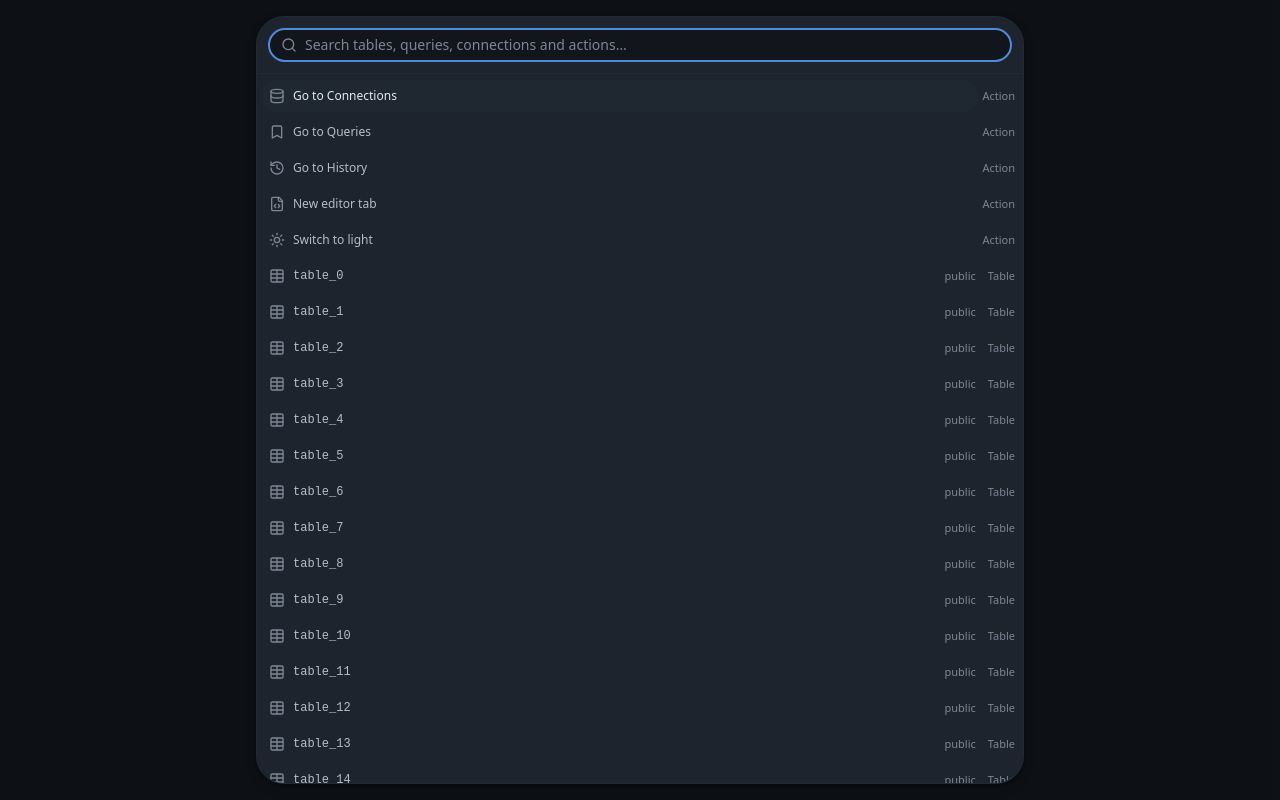
it: CommandPalette › stays responsive on a large schema
Type "table_299" into the field labelled "Search tables, queries, connections and actions…".
click(656, 45); type("table_299")  # box [305,35,1007,55]
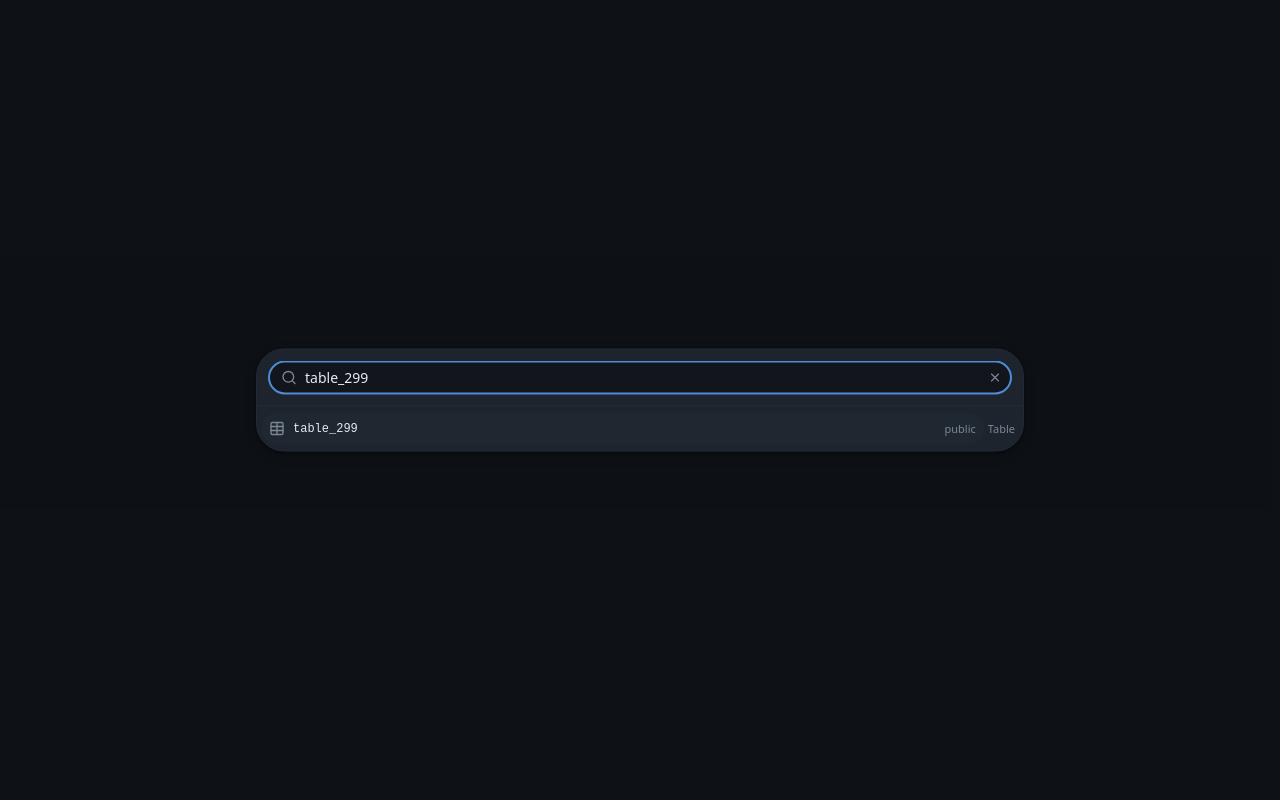
Check: the button "table_299 public" is shown, box [257,410,988,446]
The list is capped, and says so rather than silently truncating.
Replace the text in the field named "Search tables" with "t" at (640, 378), box [305,368,975,388]
(page scrolled)
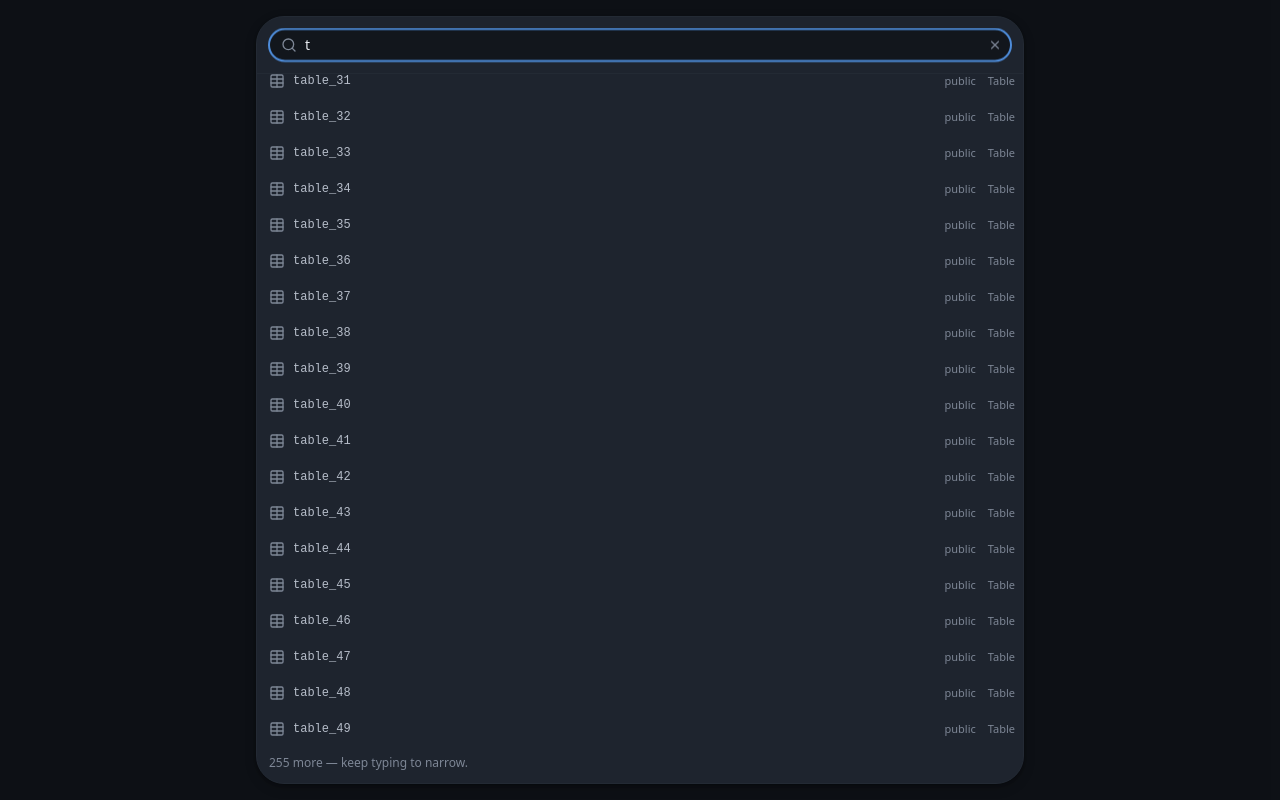
Check: the text "255 more — keep typing to narrow." is shown, box [269,754,468,771]
